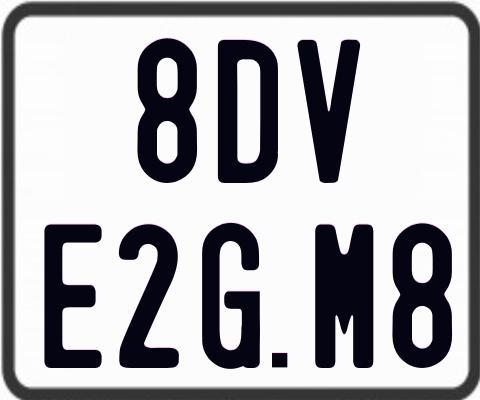2: (118, 224, 183, 369)
8: (135, 38, 201, 188), (391, 220, 452, 369)
D: (215, 37, 279, 185)
E: (42, 223, 101, 371)
G: (202, 222, 261, 368)
M: (314, 224, 378, 369)
V: (296, 40, 364, 183)
